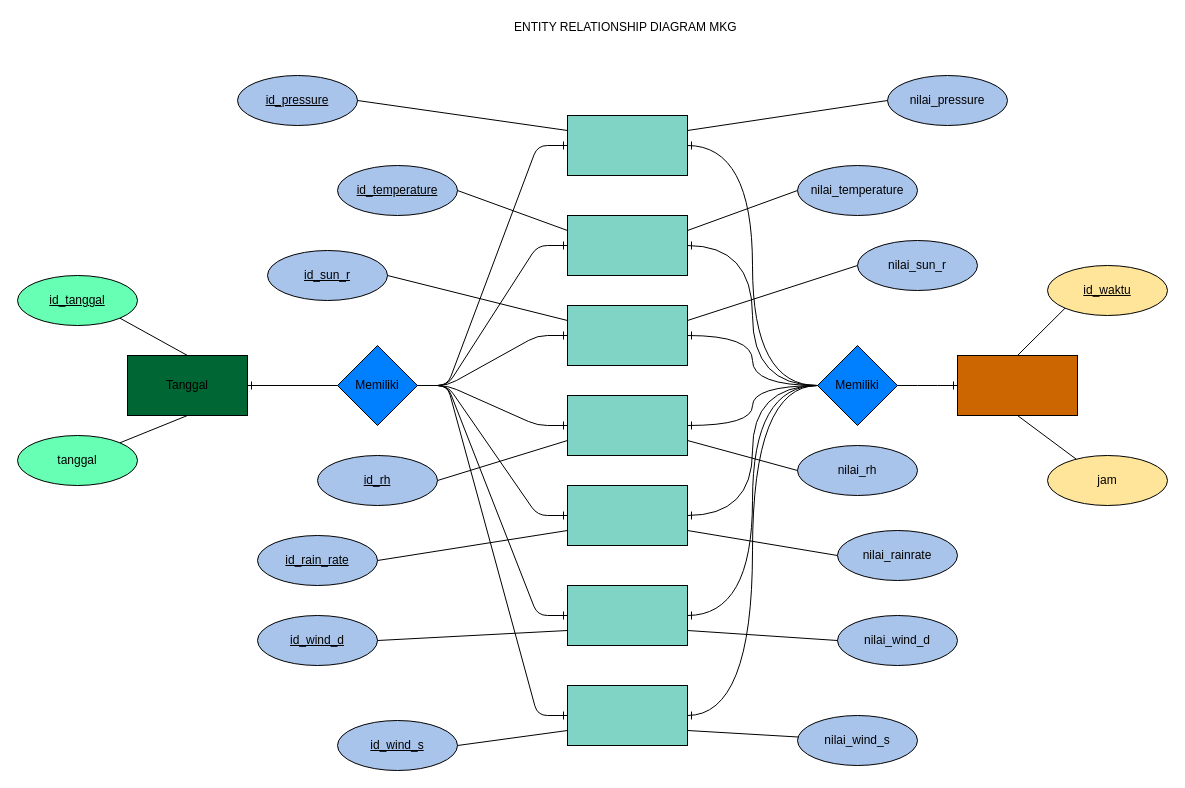
The diagram is 1185 pixels wide and 788 high, and some of its shapes have lost their labels. The shapes that lost their labels are listed below. From the top down, each one's box as (x1, y1, x2, y2) in pixels, then its label:
(566, 114, 688, 176): Pressure
(566, 214, 688, 276): Temperature
(566, 304, 688, 366): Sun Radiation
(956, 354, 1078, 416): Waktu
(566, 394, 688, 456): Relative humidity
(566, 484, 688, 546): Rain Rate
(566, 584, 688, 646): Wind Direction
(566, 684, 688, 746): Wind Speed
